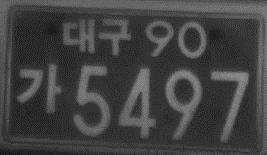0: (177, 20, 207, 60)
4: (116, 65, 158, 141)
5: (72, 61, 111, 136)
7: (208, 67, 250, 143)
9: (163, 69, 203, 142), (145, 18, 175, 60)
가: (14, 60, 64, 116)
대구_O: (60, 15, 131, 59)
